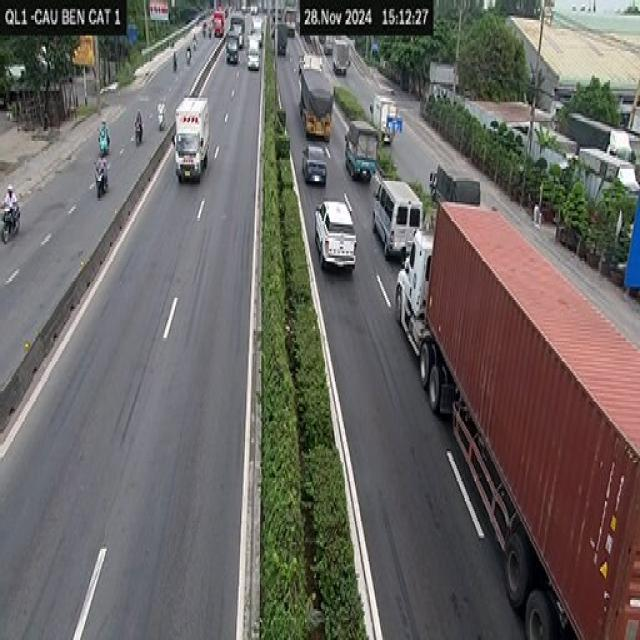car: (310, 193, 362, 279)
container-truck: (395, 198, 640, 640)
truck: (294, 50, 339, 140), (429, 154, 490, 207), (175, 96, 209, 183), (345, 116, 379, 186), (369, 86, 403, 146)
